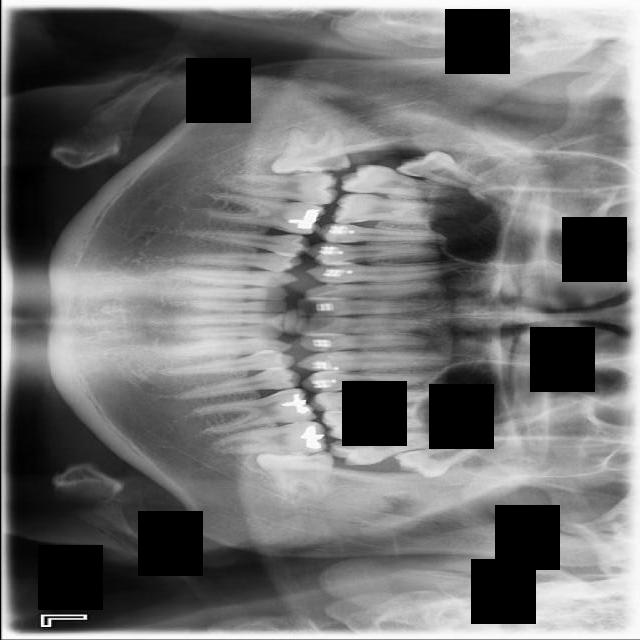3M ESPE Implant: (392, 139, 489, 194)
52: (273, 198, 326, 238), (280, 417, 328, 457), (267, 387, 317, 425)
73: (50, 608, 62, 616)
BioHorizons Implant: (324, 426, 470, 469)
BioLife Implant: (392, 437, 489, 484)
Biomet 3i Implant: (258, 450, 335, 503)
Blue Sky Bio Implant: (211, 420, 326, 455)
Caries: (340, 161, 478, 203)
Implant: (221, 172, 337, 207)
Keystone Dental Implant: (267, 123, 351, 178)
